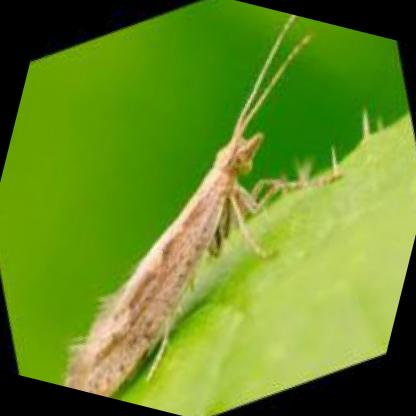plutella: (65, 14, 350, 394)
